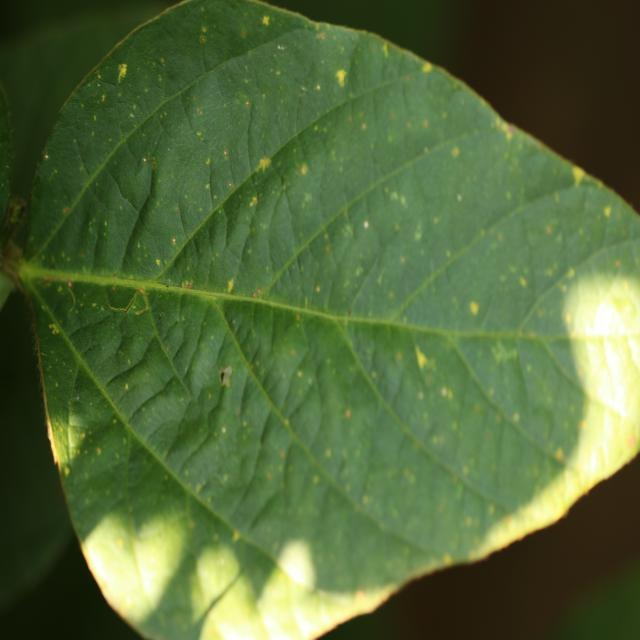Soybean: (12, 0, 640, 640)
downey_mildew: (404, 182, 631, 356), (263, 186, 402, 375), (357, 326, 486, 494), (252, 471, 416, 599), (165, 324, 266, 497), (148, 150, 255, 299), (59, 277, 165, 418), (233, 29, 348, 141), (132, 506, 228, 636), (33, 295, 97, 485), (352, 66, 473, 166), (48, 160, 142, 282), (131, 275, 214, 395), (248, 308, 321, 436), (506, 334, 584, 447), (176, 2, 296, 62), (174, 71, 241, 175), (128, 166, 186, 273), (112, 59, 147, 162), (234, 536, 283, 605), (262, 146, 301, 227)
